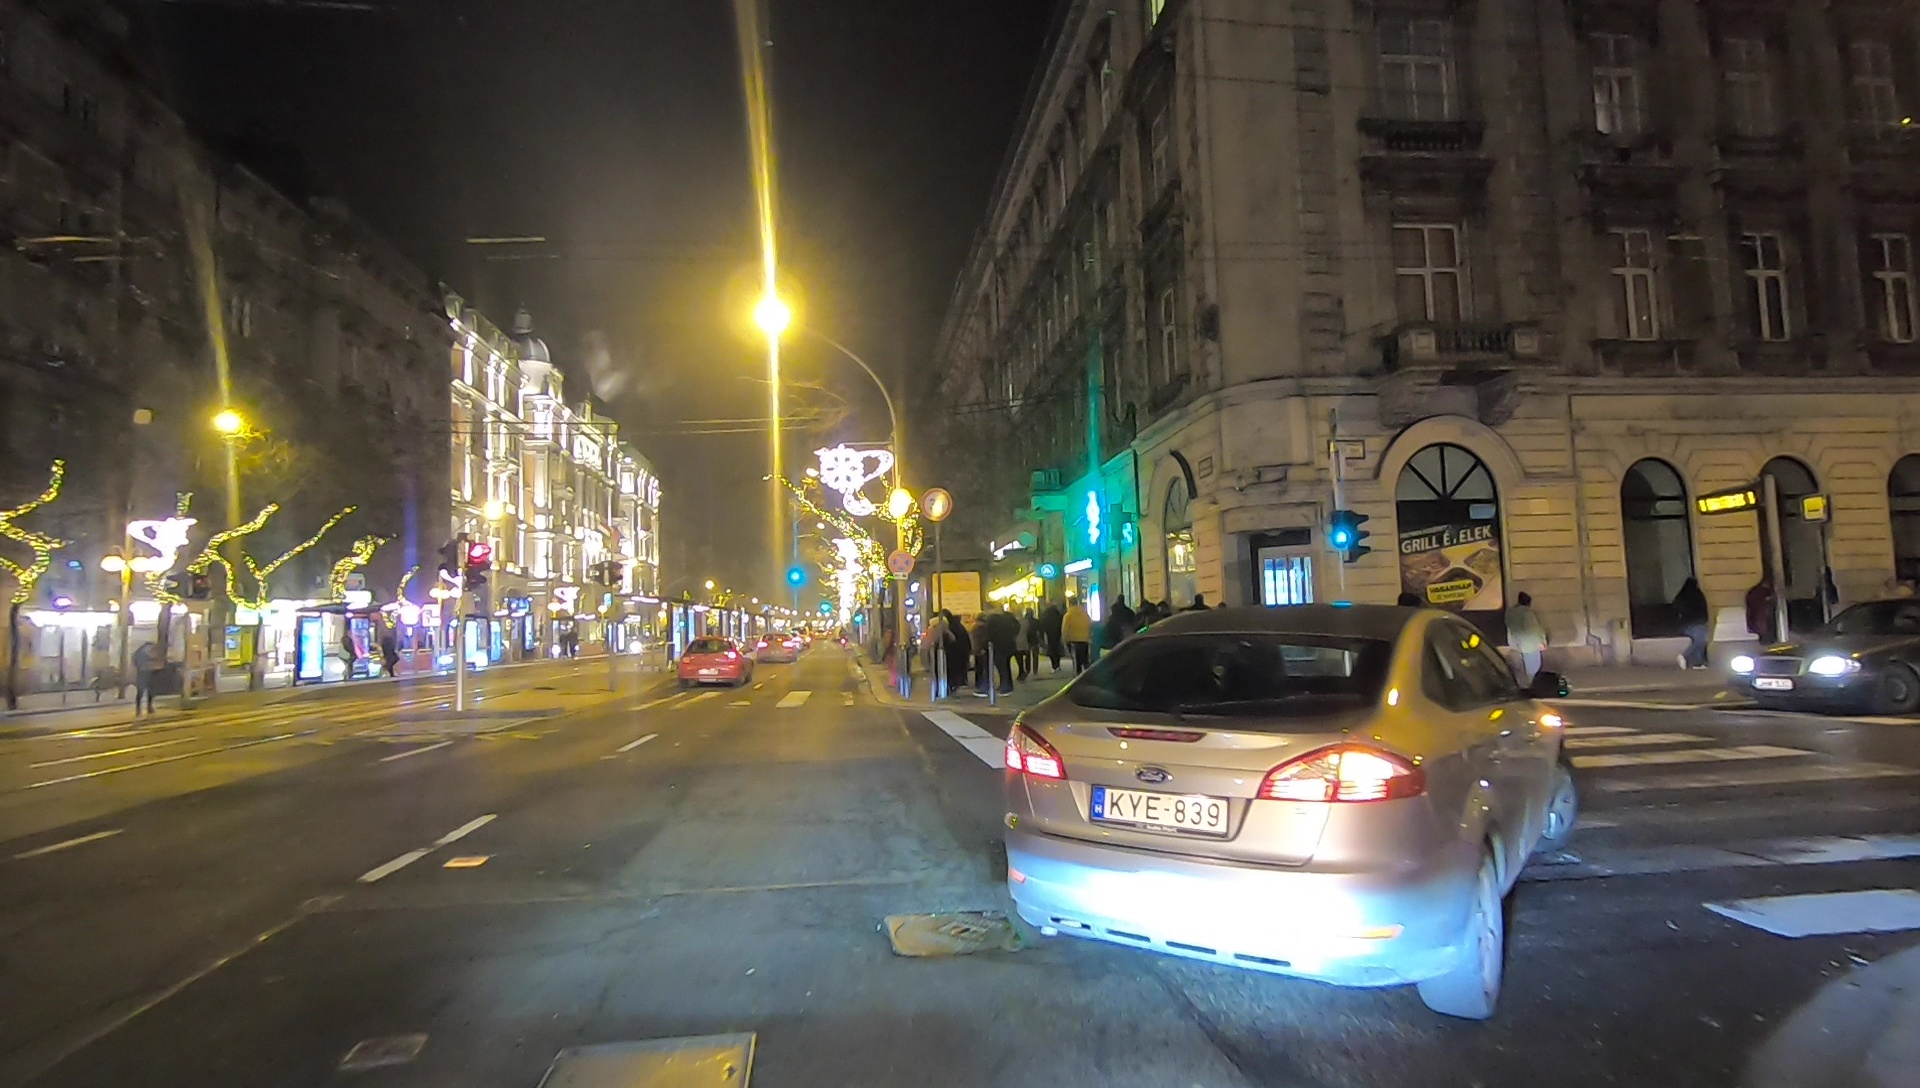person: (1674, 578, 1711, 670), (1511, 592, 1547, 681), (1739, 571, 1779, 649), (932, 609, 969, 685), (989, 611, 1016, 695), (135, 637, 159, 711), (1018, 601, 1043, 673), (1064, 599, 1089, 668), (970, 610, 988, 693), (379, 630, 399, 679), (1045, 601, 1060, 664), (343, 630, 356, 676)
